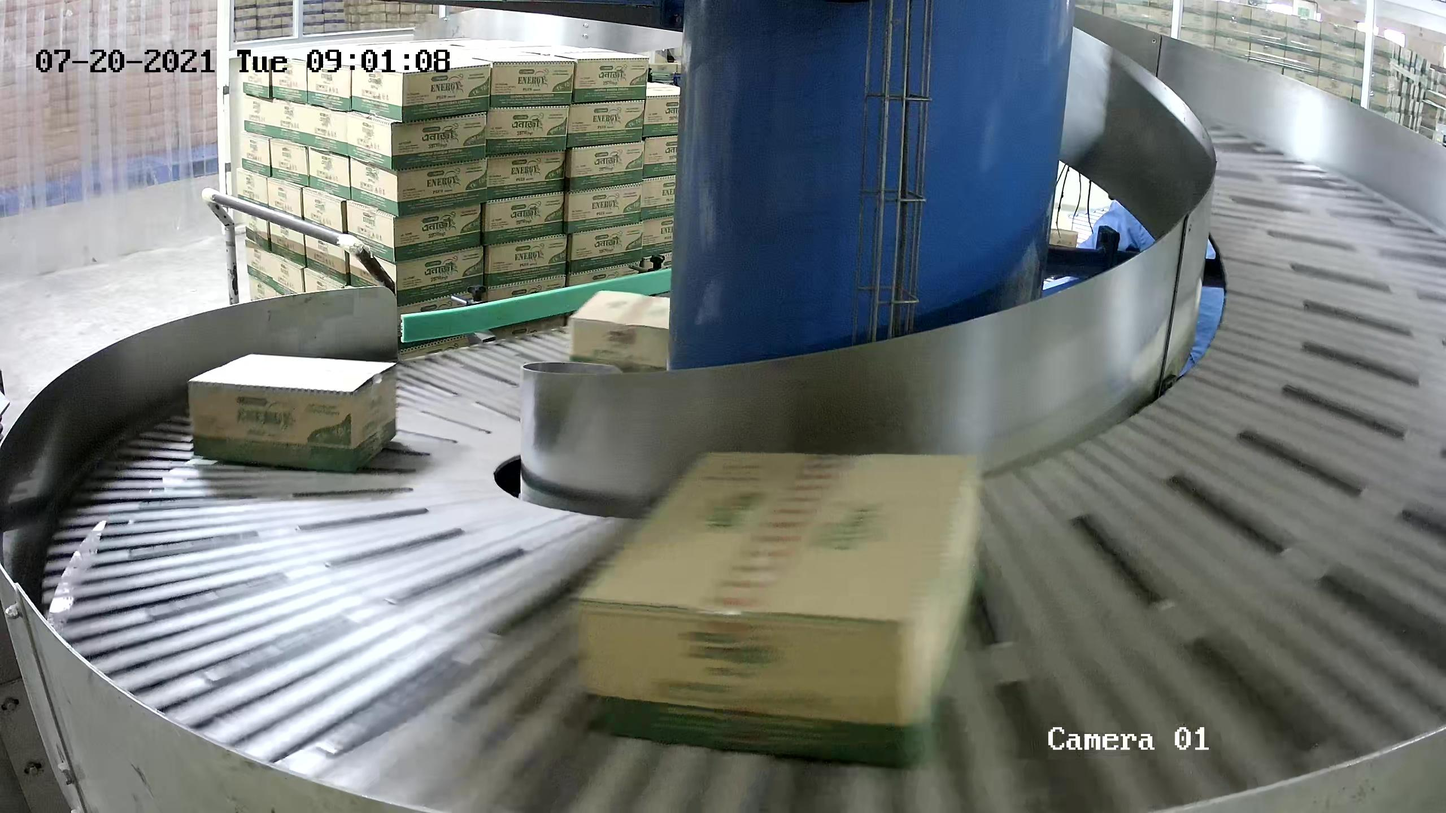Box: (569, 447, 983, 771), (186, 352, 399, 475), (568, 289, 670, 373)
